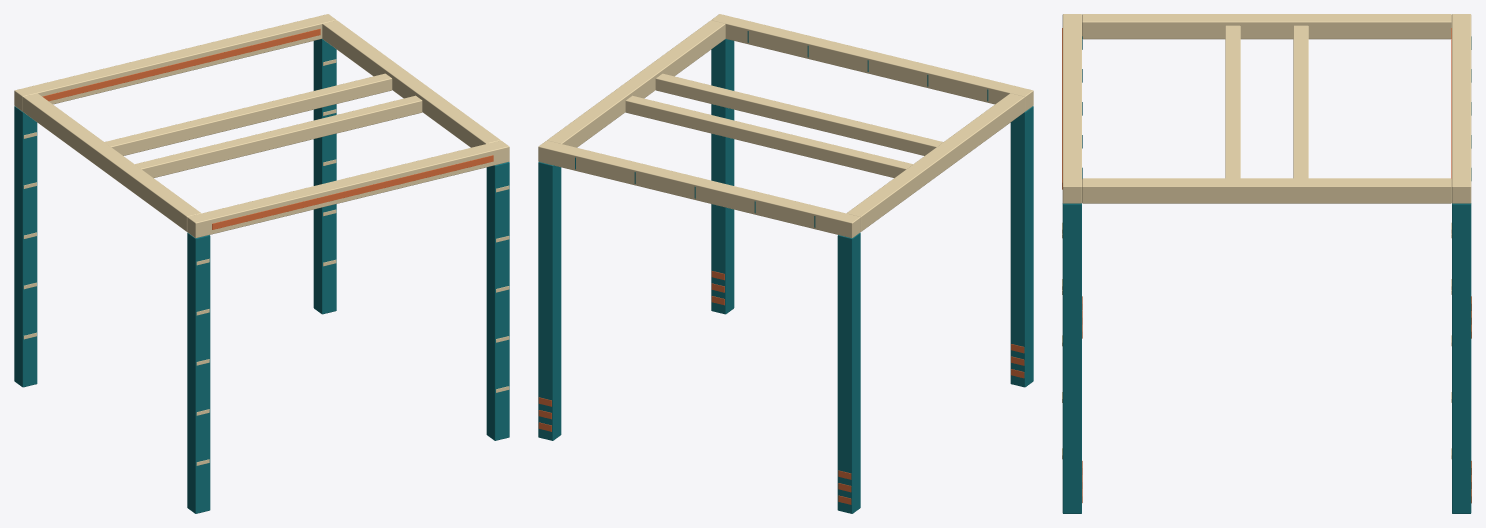
File: gantry-lod-0.glb
3 renders of one model, left to right at view 1: azimuth 30°, elevation 25°; view 2: azimuth 150°, elevation 25°; view 3: azimuth 270°, elevation 25°, orthographic. The views are drawn at different scales.
Parts seen in each view (by area): view 1: cove_gantry; view 2: cove_gantry; view 3: cove_gantry.
Part boxes in pixels (left/top/right/bottom): cove_gantry: left=14, top=14, right=509, bottom=513; cove_gantry: left=538, top=14, right=1033, bottom=513; cove_gantry: left=1062, top=14, right=1471, bottom=513.
Size of the model in its own units: 8.4 by 7.44 by 8.42.
